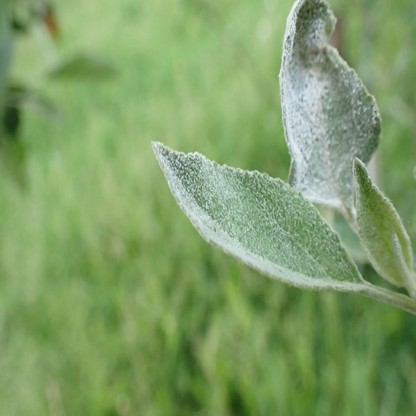powdery_mildew: (151, 141, 363, 292), (280, 0, 381, 210), (353, 157, 413, 286)
